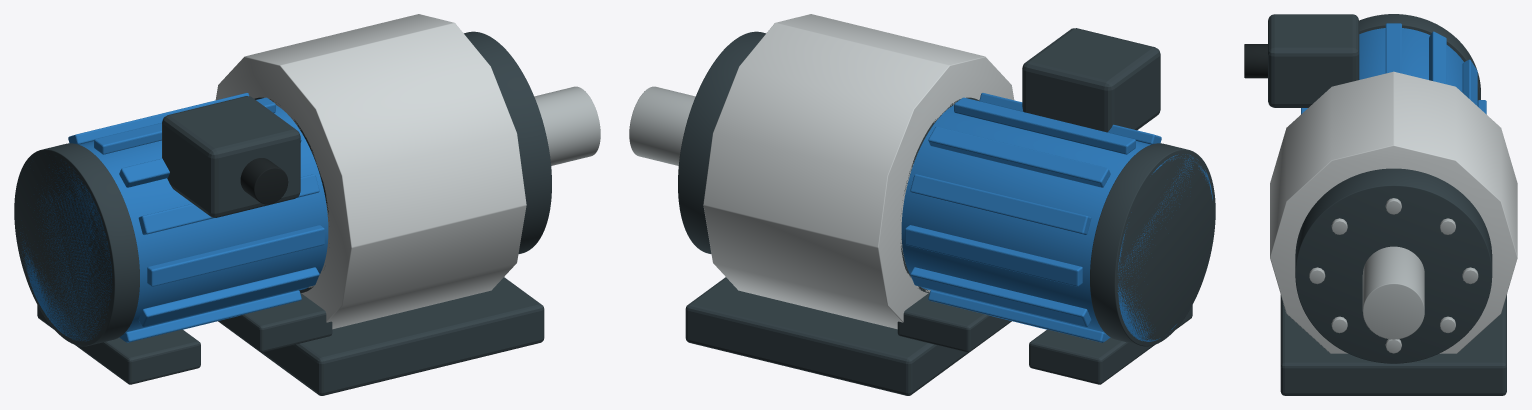
Rendered from inline_helical_gearmotor.glb.
The picture shows the model from 3 angles, left to right: view 1: azimuth 30°, elevation 25°; view 2: azimuth 150°, elevation 25°; view 3: azimuth 270°, elevation 25°; orthographic projection. The views are drawn at different scales.
Visible parts, largest first — view 1: INLINE_GEARBOX, MOTOR_frame, MOTOR_endbell_-0.745, GEARBOX_FOOT, MOTOR_terminal_box, OUTPUT_FLANGE, MOTOR_foot_-0.18, MOTOR_fin_180, KIN_OUTPUT_SHAFT, MOTOR_foot_0.18, MOTOR_fin_210, MOTOR_fin_240 (+5 smaller); view 2: INLINE_GEARBOX, MOTOR_frame, MOTOR_endbell_-0.745, GEARBOX_FOOT, MOTOR_terminal_box, OUTPUT_FLANGE, MOTOR_foot_-0.18, MOTOR_fin_0, MOTOR_fin_60, KIN_OUTPUT_SHAFT, MOTOR_foot_0.18, MOTOR_fin_30 (+4 smaller); view 3: INLINE_GEARBOX, OUTPUT_FLANGE, GEARBOX_FOOT, MOTOR_terminal_box, KIN_OUTPUT_SHAFT, MOTOR_frame, MOTOR_endbell_-0.745, MOTOR_fin_60, MOTOR_fin_90, MOTOR_gland, MOTOR_fin_30.
Part boxes in pixels (x1,y1,x2,y2): INLINE_GEARBOX: (215,14,526,329); MOTOR_frame: (20,105,328,341); MOTOR_endbell_-0.745: (14,143,139,346); GEARBOX_FOOT: (261,277,544,395); MOTOR_terminal_box: (162,96,300,217); OUTPUT_FLANGE: (464,31,551,253); MOTOR_foot_-0.18: (37,305,200,384); MOTOR_fin_180: (147,225,324,286); KIN_OUTPUT_SHAFT: (534,86,600,165); MOTOR_foot_0.18: (218,292,332,352); MOTOR_fin_210: (138,267,319,326); MOTOR_fin_240: (119,290,301,342); INLINE_GEARBOX: (703,14,1014,329); MOTOR_frame: (901,105,1212,341); MOTOR_endbell_-0.745: (1090,143,1215,346); GEARBOX_FOOT: (685,277,968,395); MOTOR_terminal_box: (1022,28,1160,132); OUTPUT_FLANGE: (678,31,765,253); MOTOR_foot_-0.18: (1029,305,1192,384); MOTOR_fin_0: (905,225,1082,286); MOTOR_fin_60: (928,126,1110,187); KIN_OUTPUT_SHAFT: (629,86,695,165); MOTOR_foot_0.18: (897,292,1011,352); MOTOR_fin_30: (910,174,1091,234); INLINE_GEARBOX: (1270,71,1517,353); OUTPUT_FLANGE: (1295,168,1492,363); GEARBOX_FOOT: (1280,295,1506,395); MOTOR_terminal_box: (1268,14,1359,107); KIN_OUTPUT_SHAFT: (1362,246,1424,339); MOTOR_frame: (1359,28,1463,92); MOTOR_endbell_-0.745: (1359,14,1480,100); MOTOR_fin_60: (1429,31,1446,84); MOTOR_fin_90: (1385,23,1401,73); MOTOR_gland: (1244,44,1267,78); MOTOR_fin_30: (1462,59,1477,105).
Size of the model in its own units: 1.42 by 0.73 by 0.7497.
